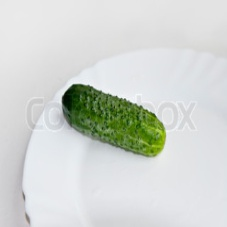cucumber: (61, 84, 166, 158)
